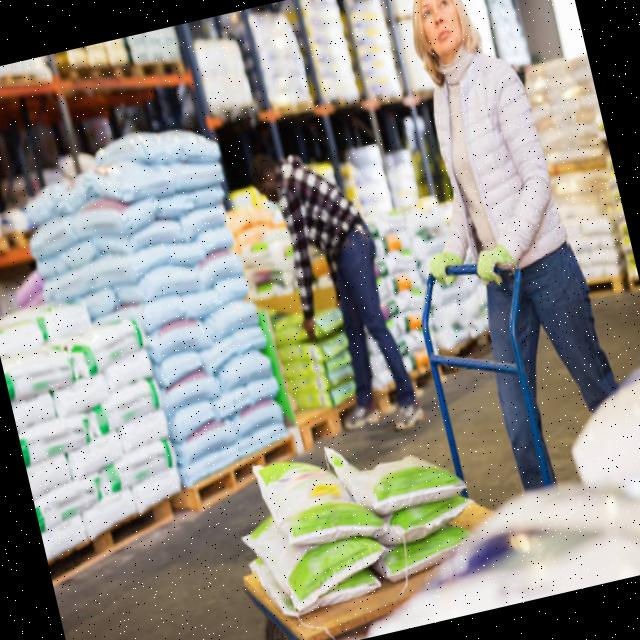Wooden-Pallets: (46, 497, 178, 598), (186, 433, 303, 514)
